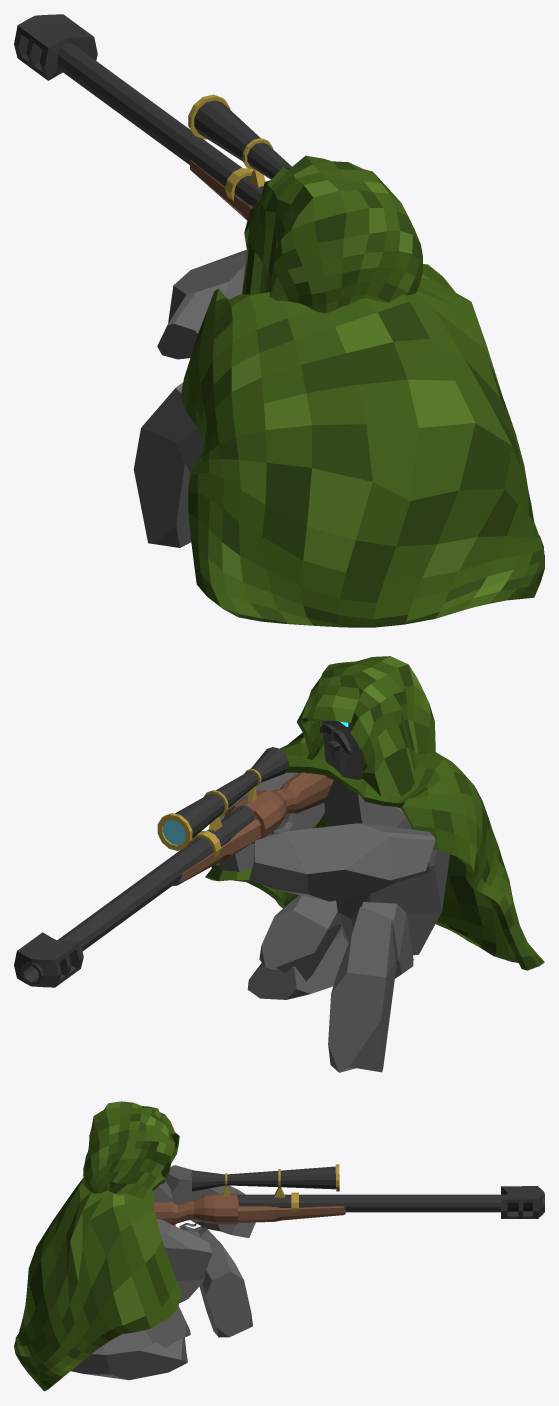
Rendered from golemSniper.fbx.
3 views of the same model, one above another, from view 1: azimuth 30°, elevation 25°; view 2: azimuth 150°, elevation 25°; view 3: azimuth 270°, elevation 25° (orthographic). The views are drawn at different scales.
Visible parts, largest first — view 1: Sniper; view 2: Sniper; view 3: Sniper.
Part boxes in pixels (bbox=[...]): Sniper: bbox=[14, 14, 544, 627]; Sniper: bbox=[14, 656, 544, 1072]; Sniper: bbox=[14, 1101, 544, 1391].
Bounding box in the file's own units: 526 × 625 × 1225.
